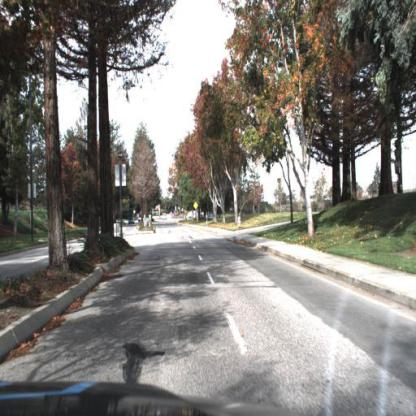car: (129, 218, 136, 226), (163, 214, 168, 221), (139, 216, 144, 223)
